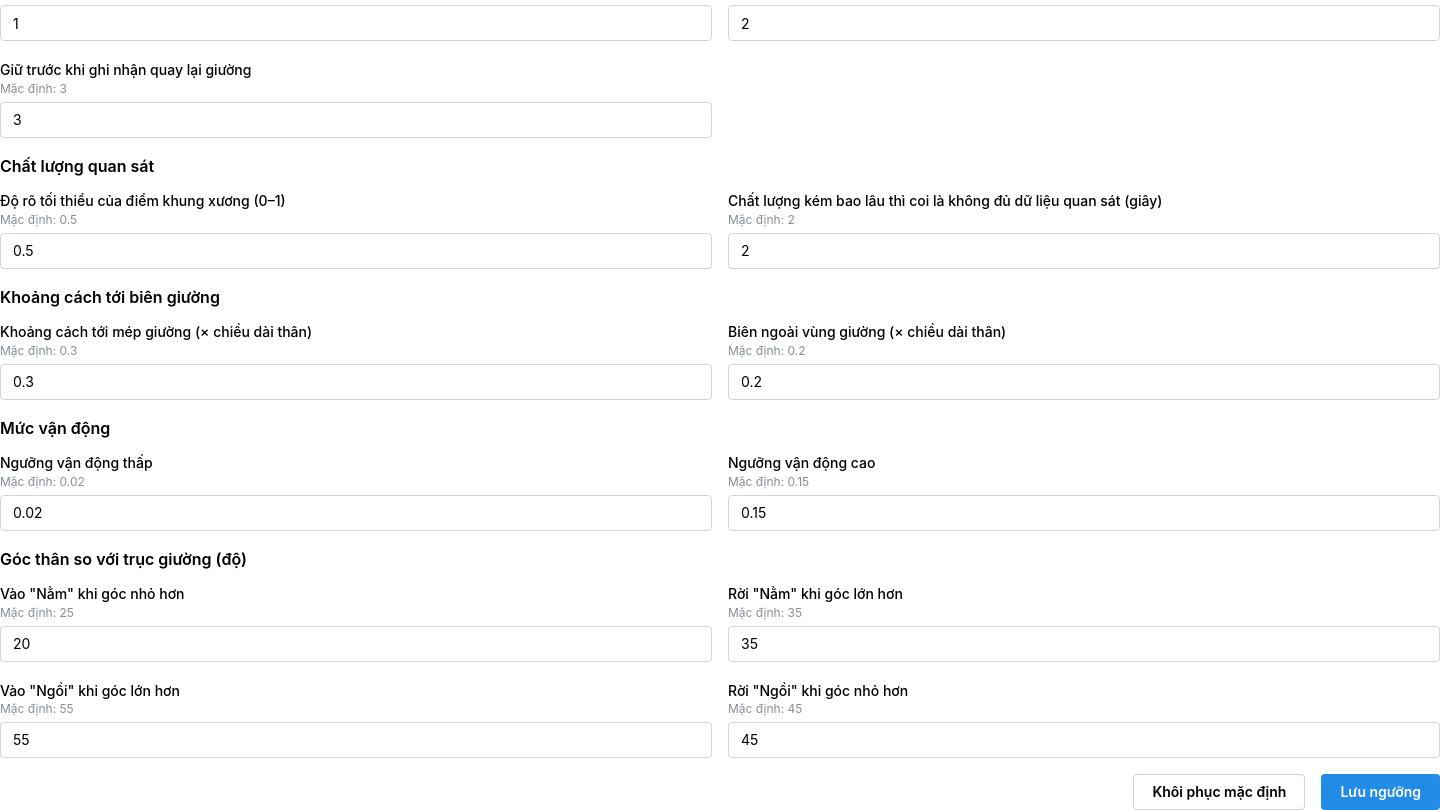
Test: ThresholdsForm › ThresholdsForm resets to defaults
The image size is (1440, 810).
Later steps or results of the test are not shown.
(page scrolled)
Click the button "Khôi phục mặc định". click: {"x": 1219, "y": 792}
box: [1133, 774, 1305, 809]
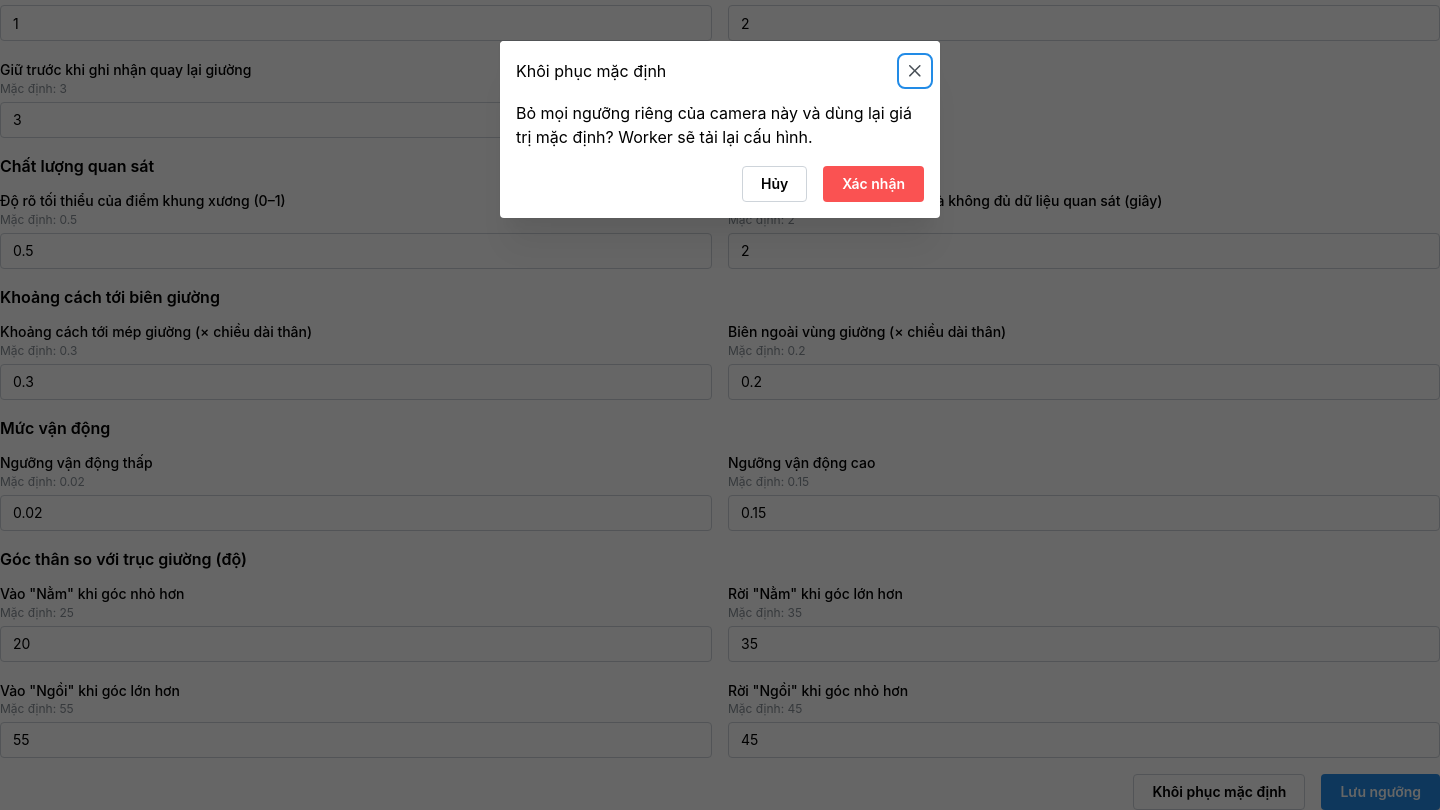
Expected: the text "Bỏ mọi ngưỡng riêng của camera này và dùng lại giá trị mặc định? Worker sẽ tải lại cấu hình." is shown, [516, 102, 912, 147]
